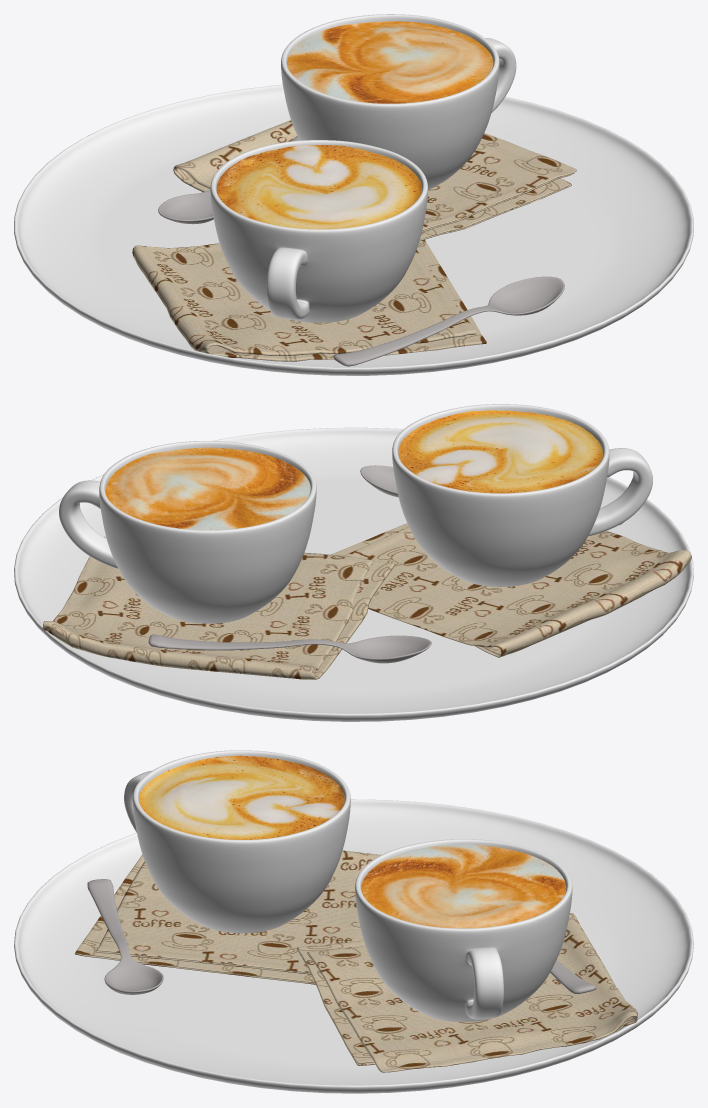
The model's file is coffee_for_two-transformed.glb.
3 views of the same model, one above another, from view 1: azimuth 30°, elevation 25°; view 2: azimuth 150°, elevation 25°; view 3: azimuth 270°, elevation 25° (orthographic).
Parts seen in each view (by area): view 1: Object_7, Object_9, Object_5, Object_11; view 2: Object_7, Object_9, Object_5, Object_11; view 3: Object_7, Object_9, Object_5, Object_11.
Part boxes in pixels (x1,y1,x2,y2): Object_7: [14, 14, 693, 375]; Object_9: [132, 120, 576, 361]; Object_5: [216, 21, 493, 229]; Object_11: [158, 136, 564, 366]; Object_7: [14, 404, 693, 721]; Object_9: [42, 523, 691, 679]; Object_5: [105, 410, 602, 530]; Object_11: [148, 465, 622, 663]; Object_7: [14, 750, 693, 1093]; Object_9: [75, 850, 637, 1072]; Object_5: [139, 755, 566, 928]; Object_11: [87, 879, 596, 994].
Bounding box in the file's own units: 1.92 × 0.3895 × 1.92.
4 materials, 4 textured.
